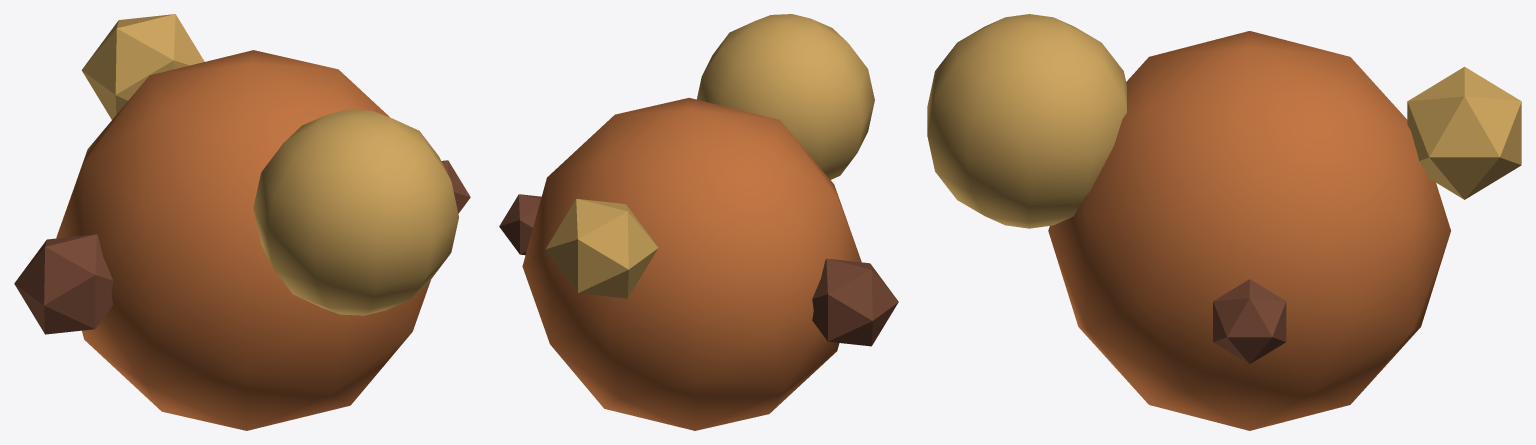
The model's file is oasis_wisp.glb.
3 renders of one model, left to right at view 1: azimuth 30°, elevation 25°; view 2: azimuth 150°, elevation 25°; view 3: azimuth 270°, elevation 25°, orthographic. The views are drawn at different scales.
Parts seen in each view (by area): view 1: body_core, head_core, orb_2, orb_3, orb_0; view 2: body_core, head_core, orb_3, orb_2, orb_0; view 3: body_core, head_core, orb_3, orb_0.
Part boxes in pixels (x1,y1,x2,y2): body_core: [56, 50, 430, 430]; head_core: [253, 109, 458, 315]; orb_2: [14, 234, 113, 334]; orb_3: [81, 14, 204, 119]; orb_0: [441, 160, 470, 213]; body_core: [522, 98, 861, 430]; head_core: [697, 14, 874, 179]; orb_3: [545, 199, 658, 298]; orb_2: [812, 258, 898, 346]; orb_0: [499, 194, 541, 255]; body_core: [1048, 31, 1450, 430]; head_core: [927, 14, 1126, 228]; orb_3: [1407, 66, 1521, 199]; orb_0: [1213, 279, 1286, 364].
Size of what is drawn, in the model's own units: 1.92 by 1.6 by 2.21.
